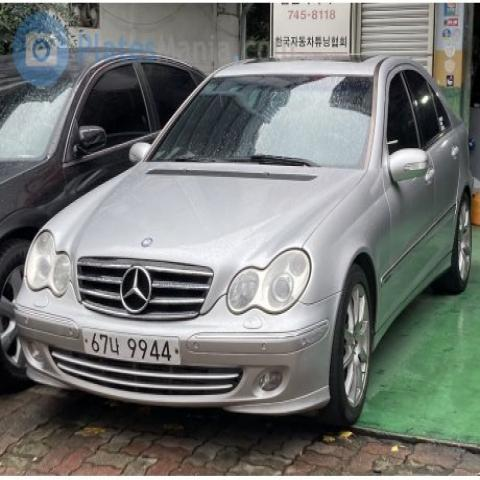LP: (77, 319, 184, 370)
